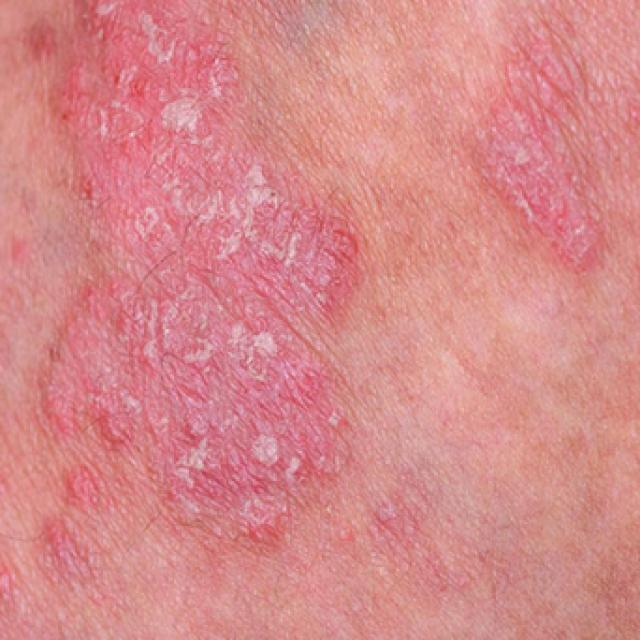Psoriasis: (2, 0, 370, 588), (466, 0, 629, 286)
